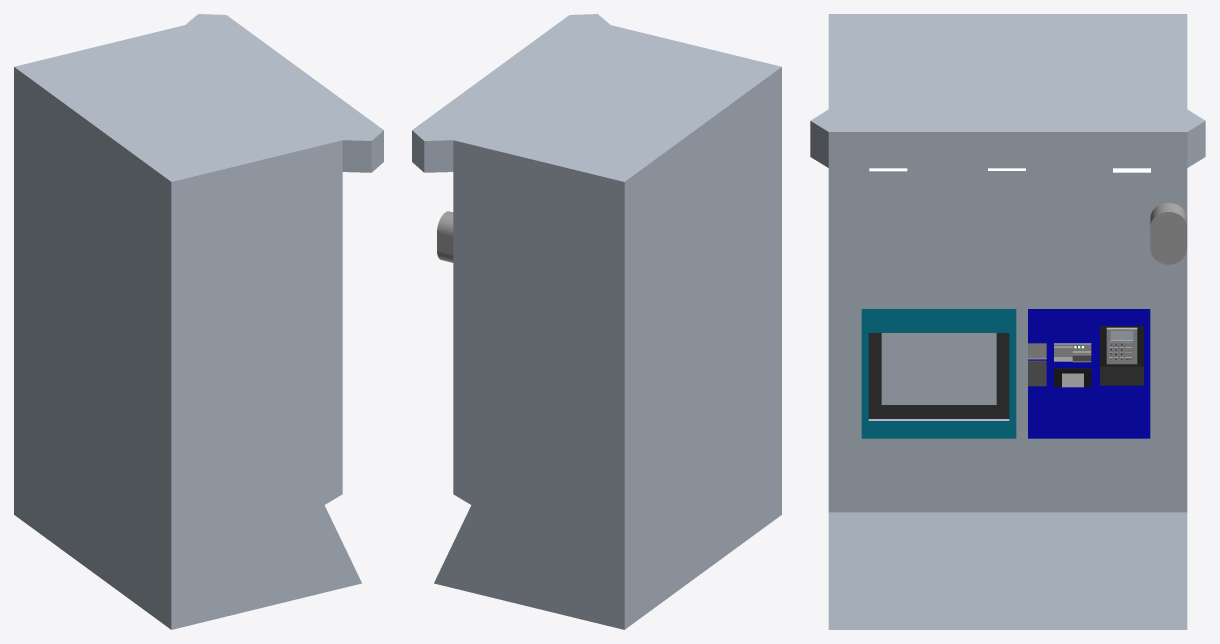
File: cardbox.gltf
3 views of the same model, side by side, from view 1: azimuth 30°, elevation 25°; view 2: azimuth 150°, elevation 25°; view 3: azimuth 270°, elevation 25° (orthographic). The views are drawn at different scales.
Visible parts, largest first — view 1: 立方体; view 2: 立方体, 立方体.001; view 3: 立方体, 立方体.001.
Boxes of the visible parts, x1=… form: 立方体: x1=14, y1=14, x2=383, y2=629; 立方体: x1=412, y1=14, x2=781, y2=629; 立方体.001: x1=437, y1=211, x2=453, y2=262; 立方体: x1=810, y1=14, x2=1205, y2=629; 立方体.001: x1=1150, y1=203, x2=1187, y2=264.
Size of the model in its own units: 2.48 by 5 by 3.51.
